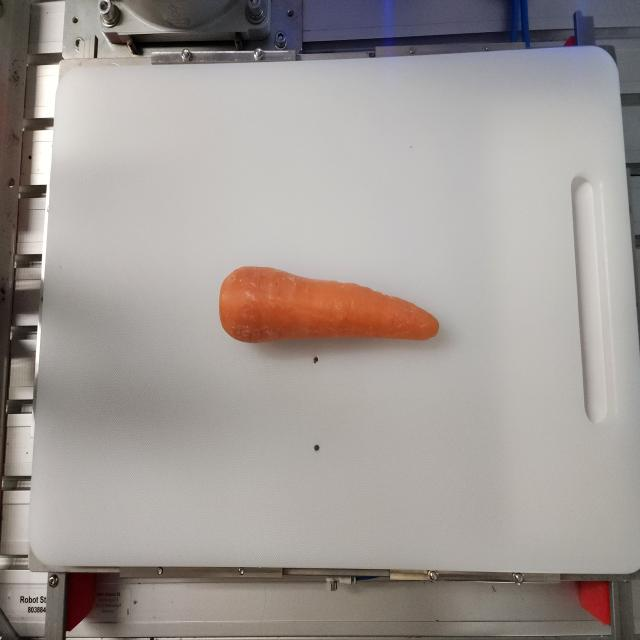carrot: (218, 265, 440, 343)
